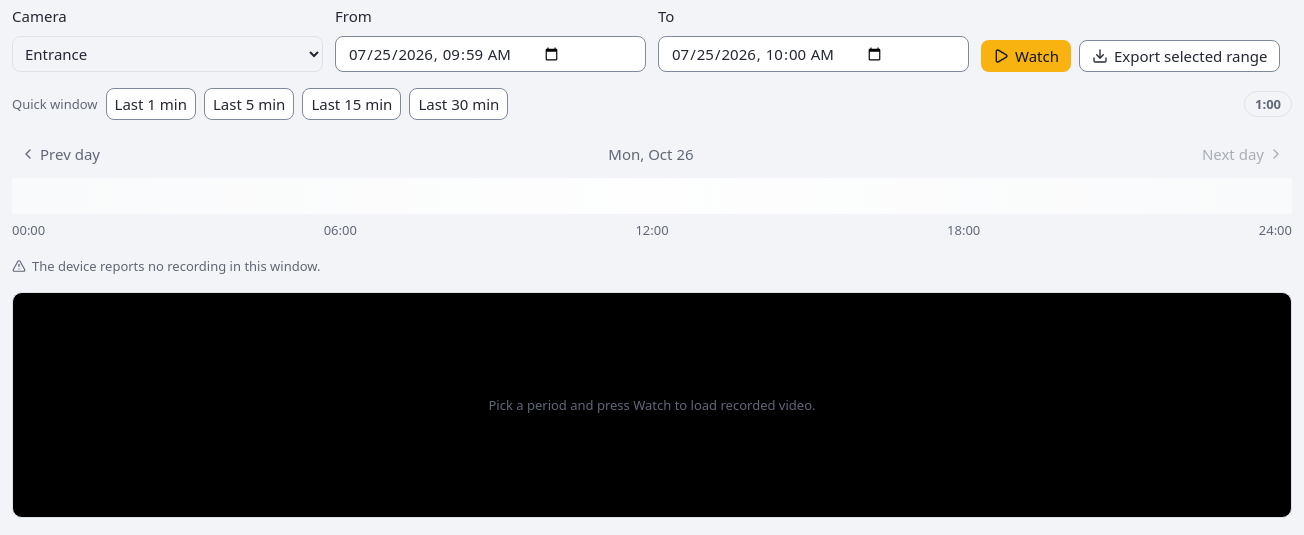
ArchivePlayer › warns when the device reports no recording in the window
The width and height of the screenshot is (1304, 535).
Replace the text in the field labelled "From" with "2026-07-26T12:00". click: coordinates (490, 54)
box: [335,36,646,72]
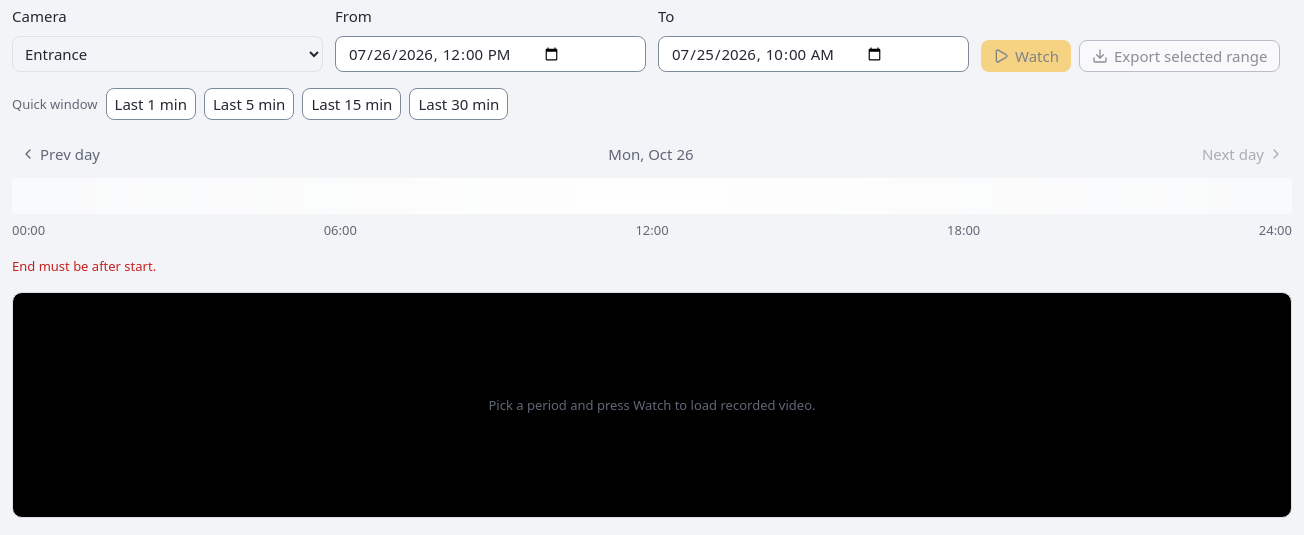
Replace the text in the field labelled "To" with "2026-07-26T12:10". click: coordinates (814, 54)
box: [658,36,969,72]
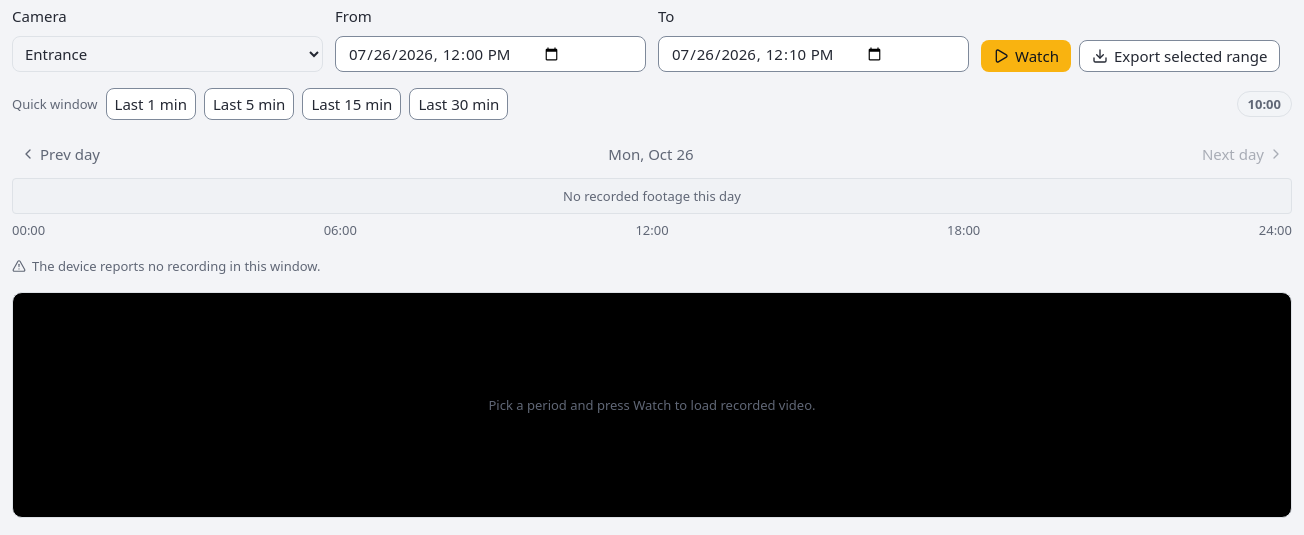
Check: the text "The device reports no recording in this window." is shown, box [12,257,320,275]
